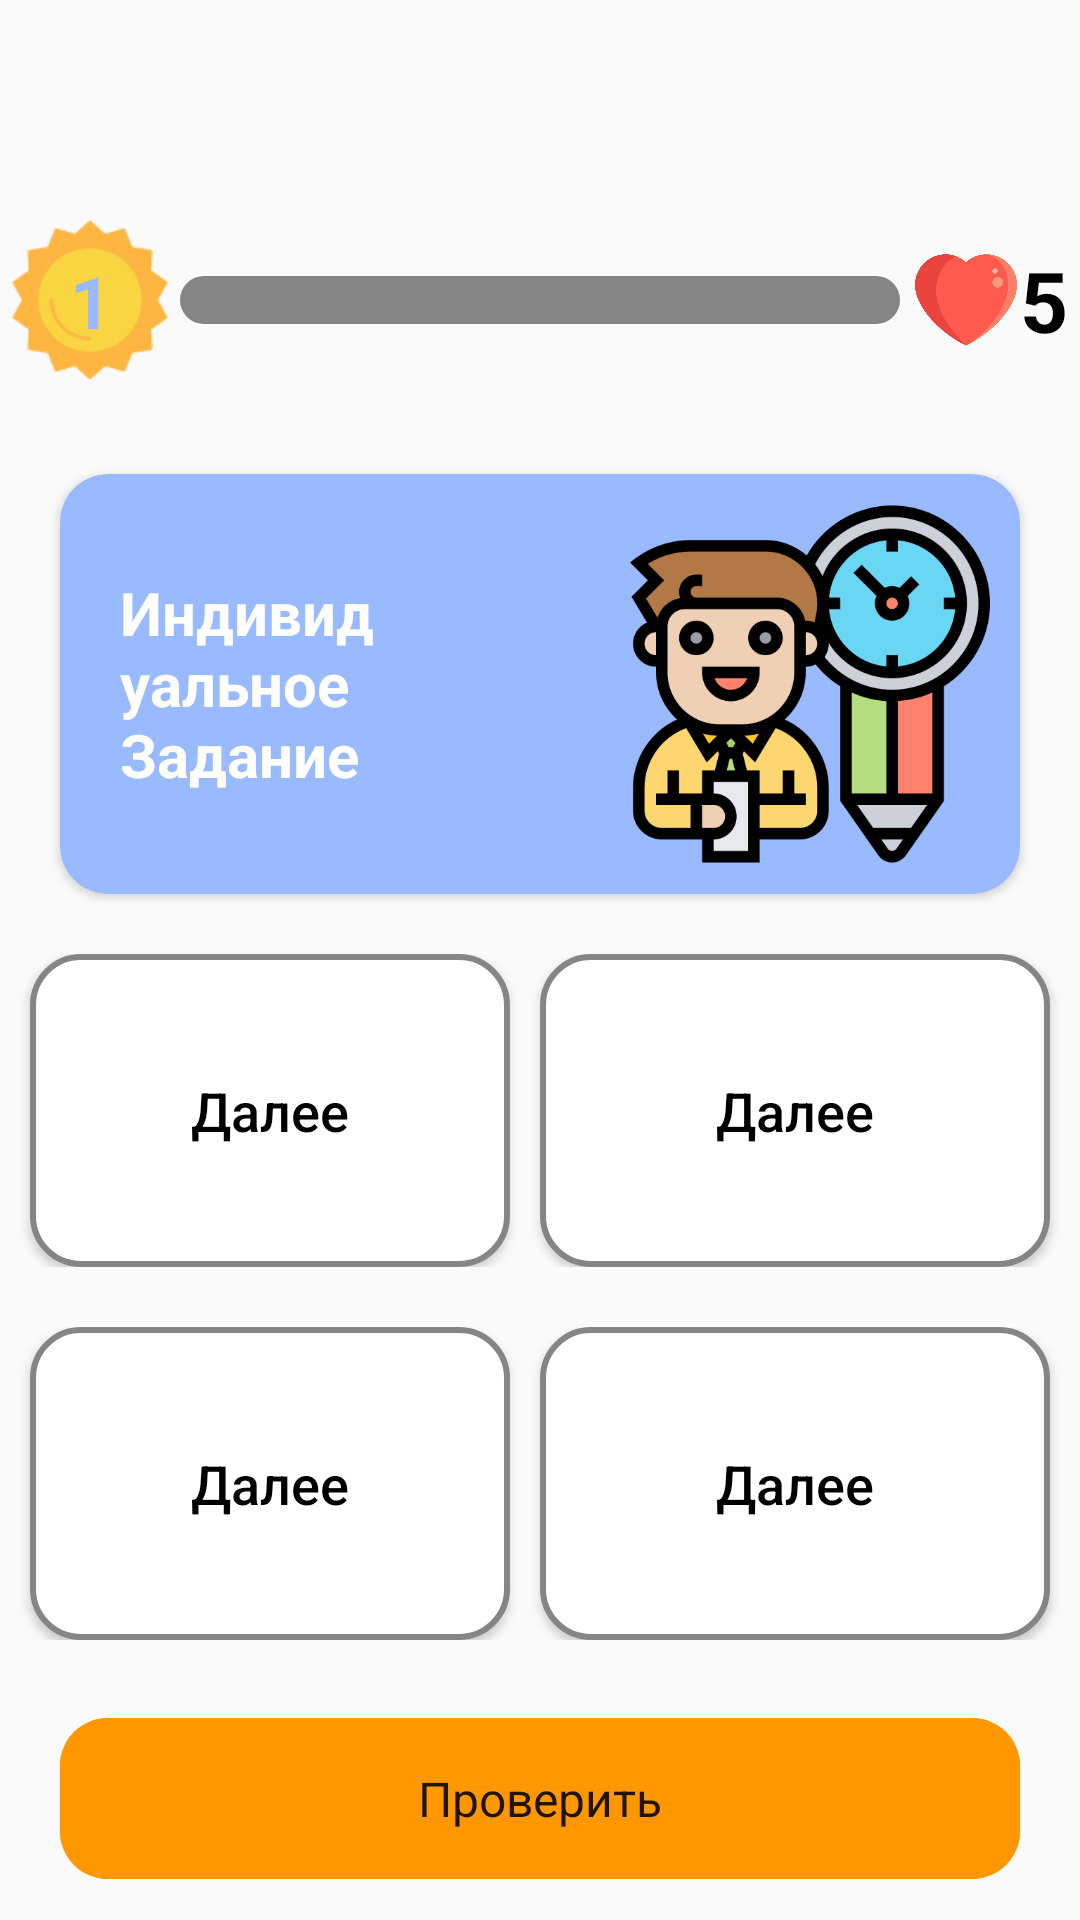

Named icons in this screenshot (1080w x 1920h) and their centers, [x,y]:
heart: [966,300]
sun: [90,300]
tasks: [810,684]
